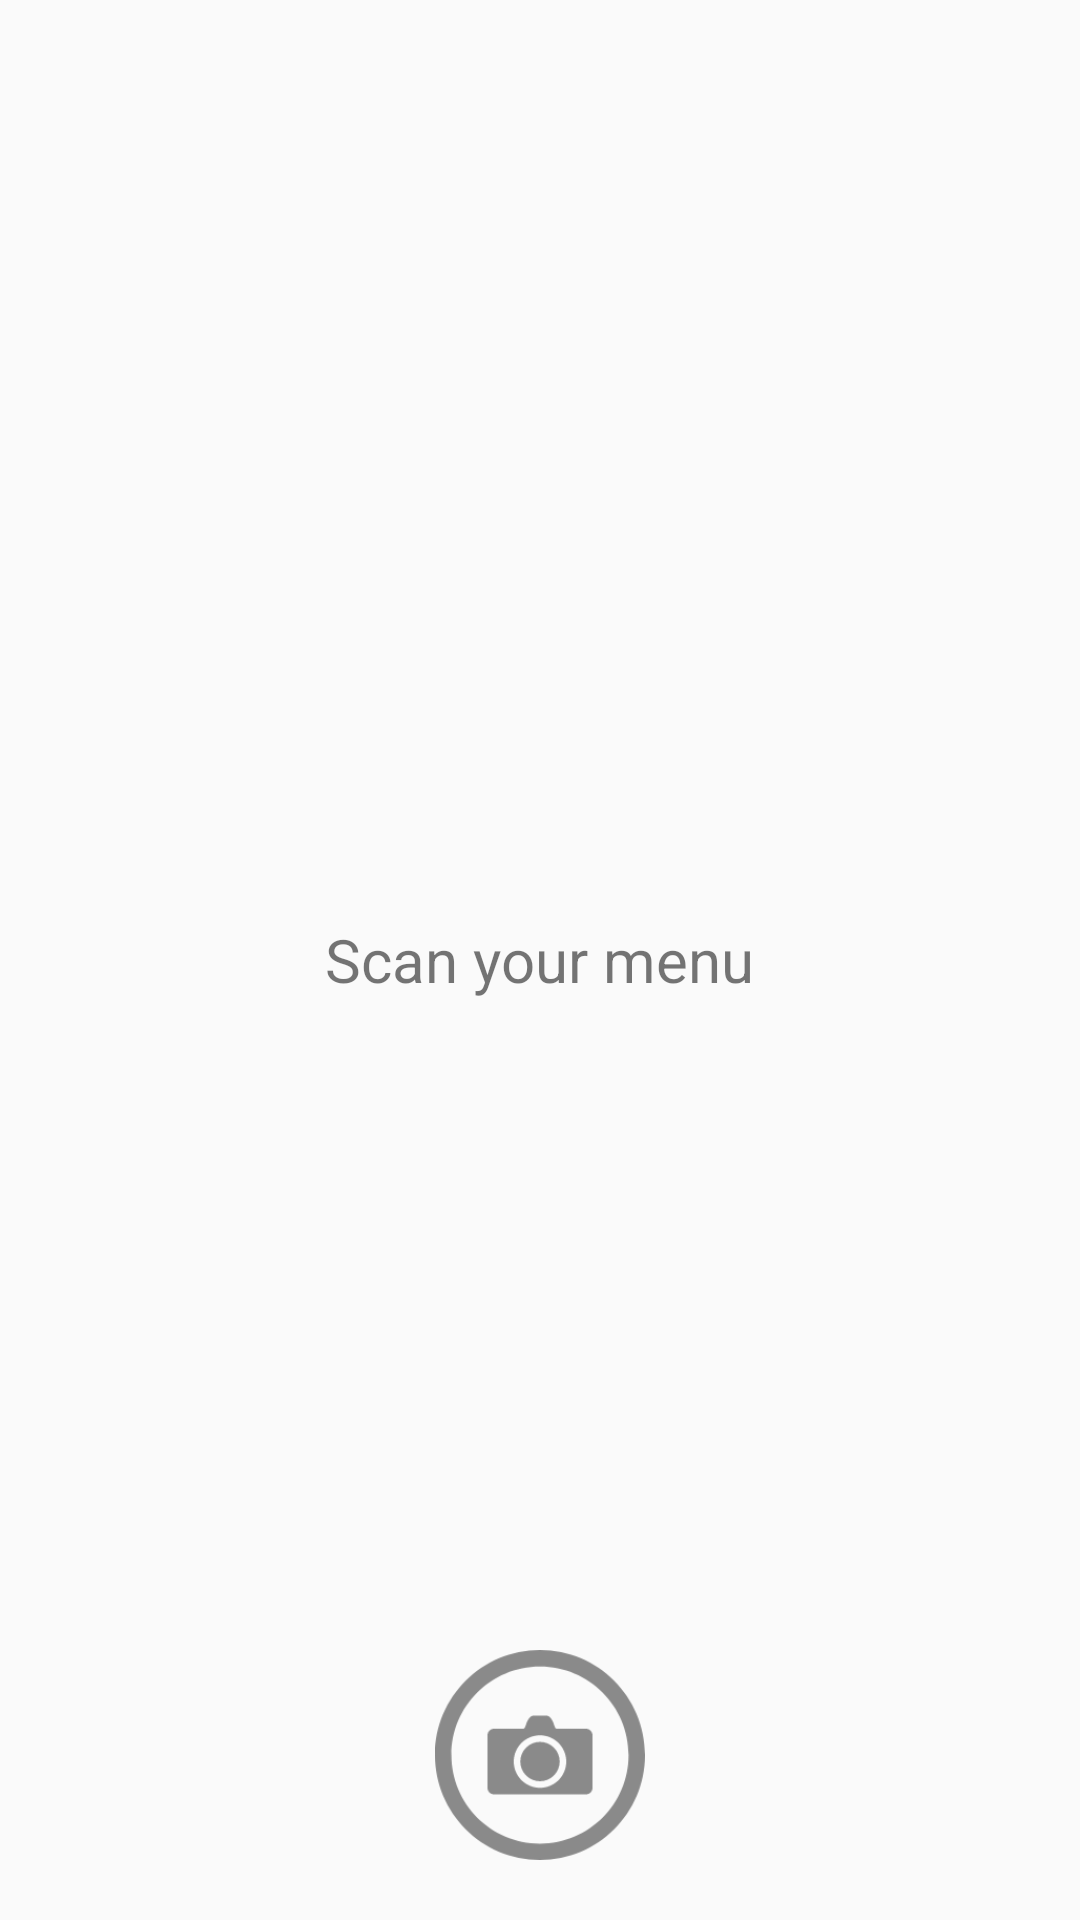

Point at icon controls on the screen. Image size 1080px x 1920px, points as (x=x, y=y).
camera: (x=540, y=1755)
